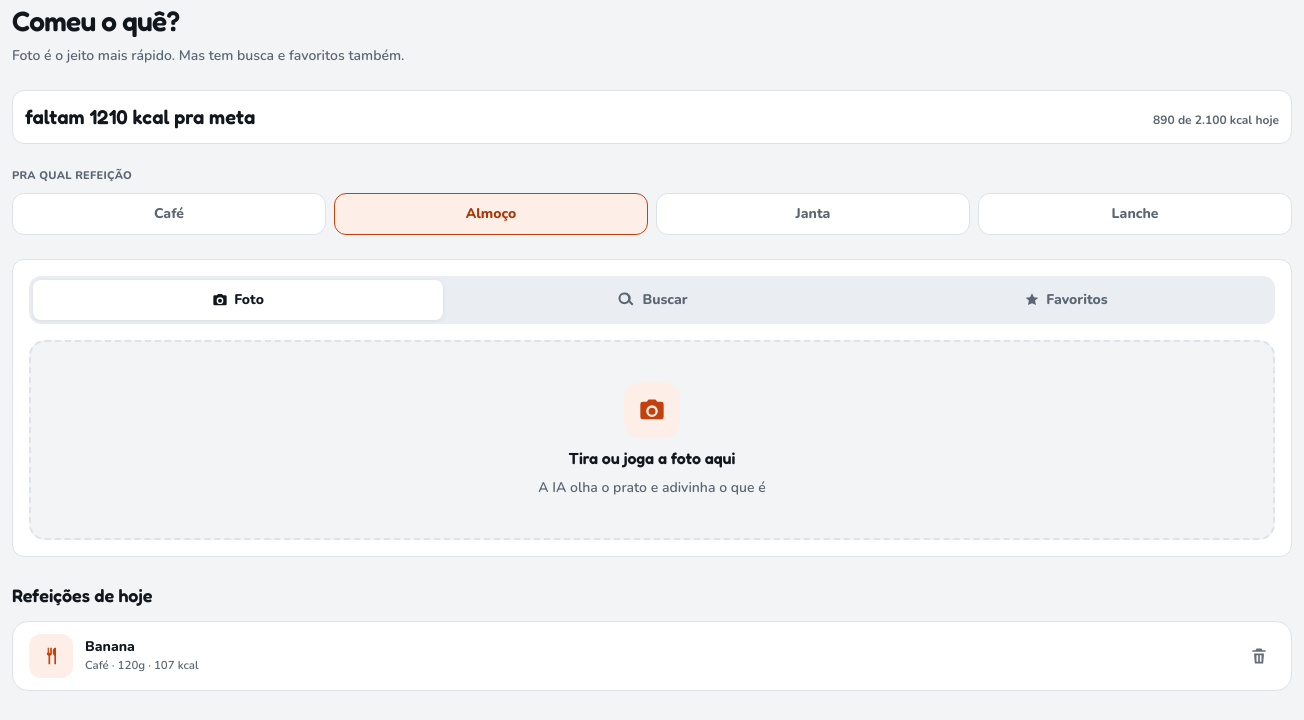
Test: NutritionPage search tab › gives each result a quieter add button than the one that saves
Step 1. Click the button "Buscar" → {"x": 652, "y": 300}, box x1=447 y1=280 x2=857 y2=320
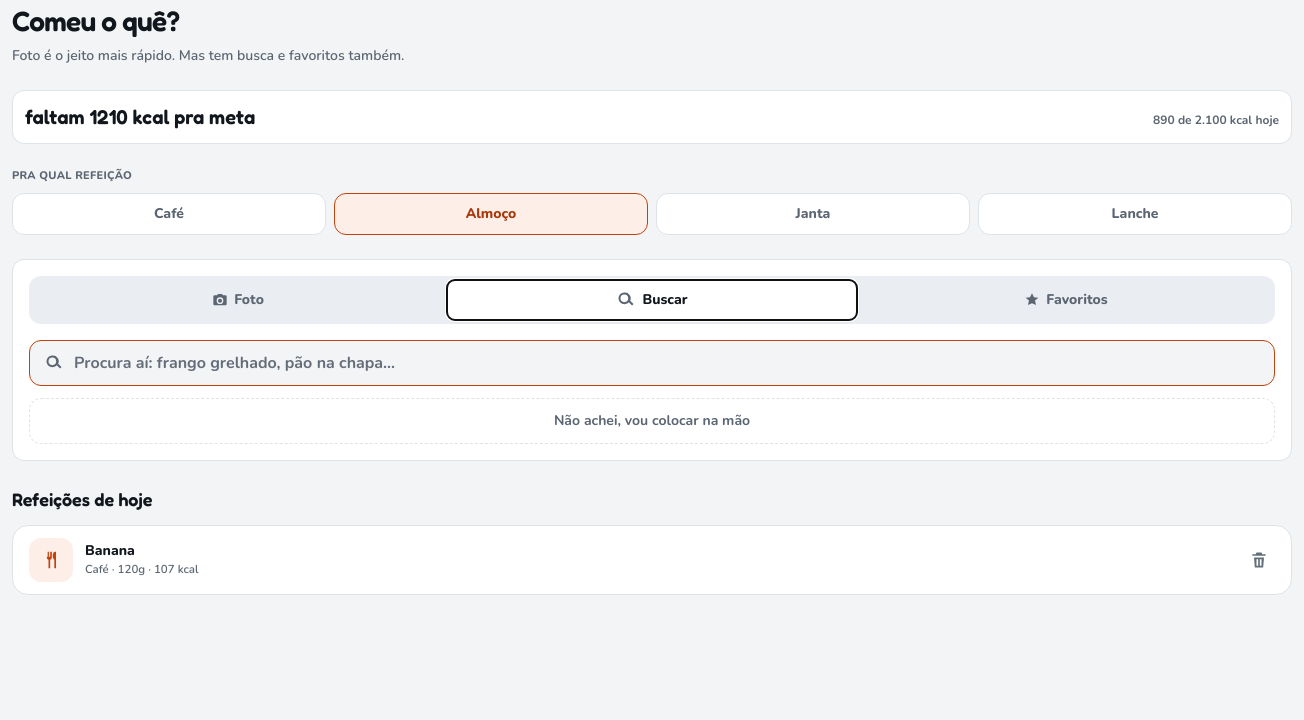
Step 2. Type "iogurte" into the search field with placeholder "Procura aí: frango grelhado, pão na chapa..." → {"x": 667, "y": 362}, box x1=74 y1=350 x2=1260 y2=374
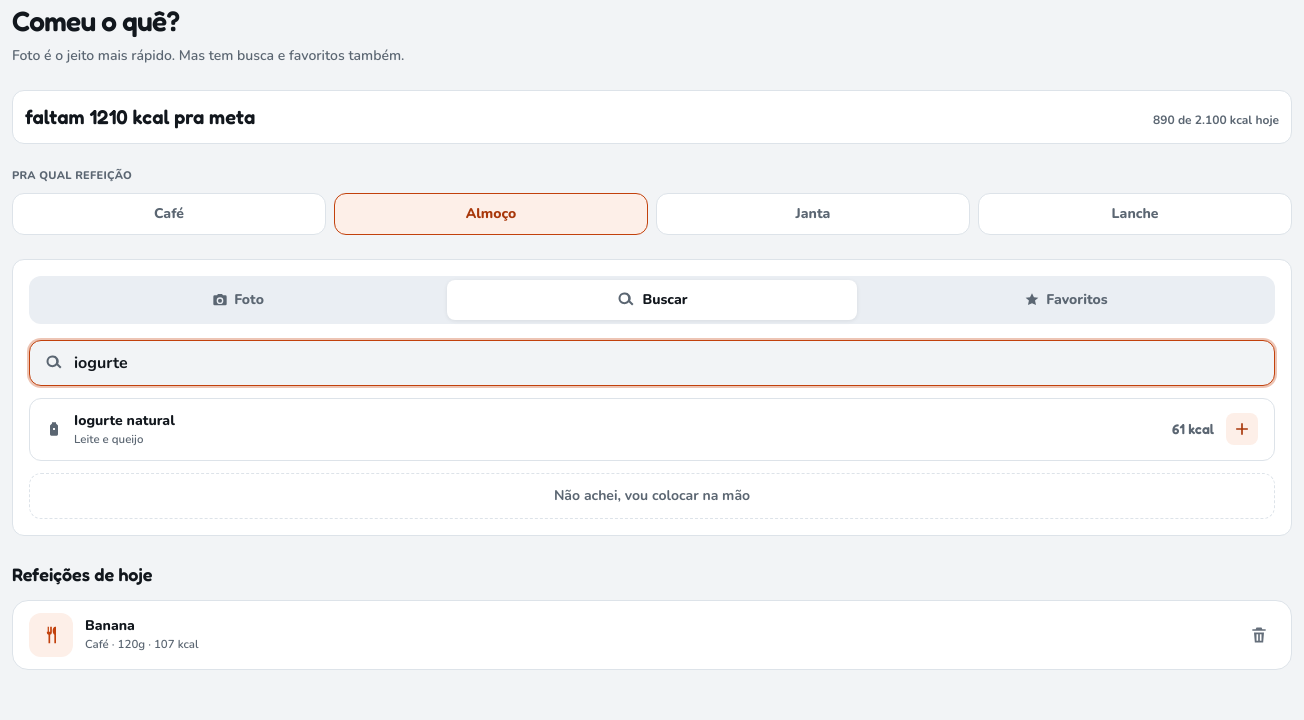
Check: the text "Iogurte natural" is shown, box x1=74 y1=410 x2=175 y2=430
